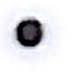cancer: (1, 4, 63, 66)
